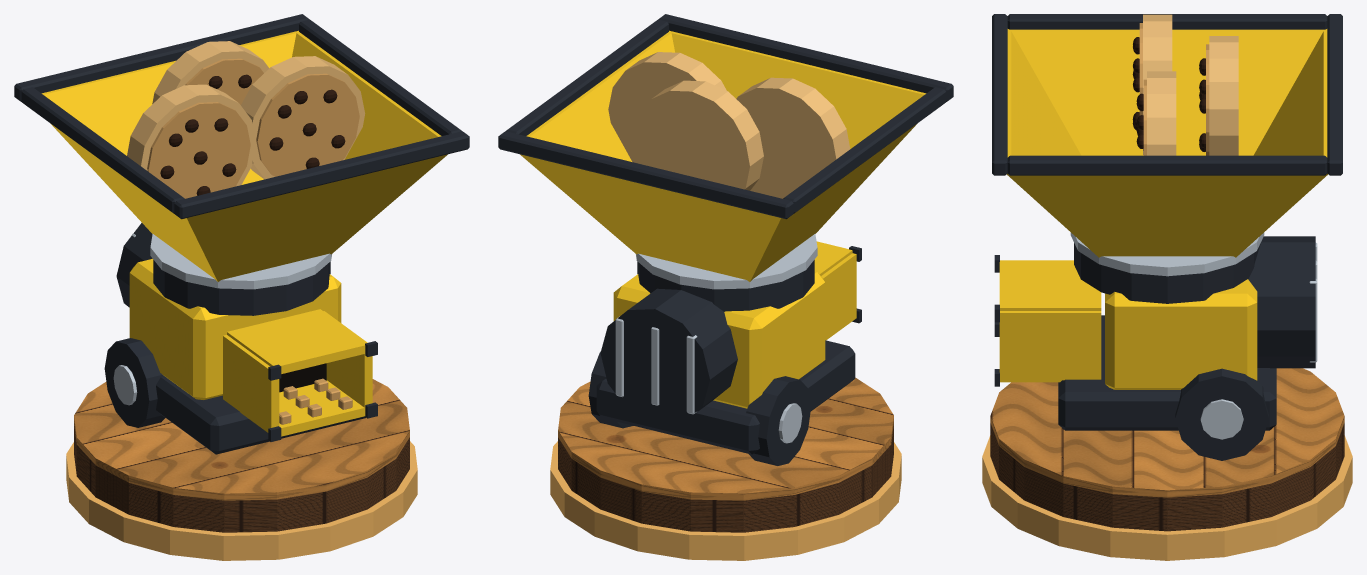
The model's file is CookieCrumbler.glb.
3 renders of one model, left to right at view 1: azimuth 30°, elevation 25°; view 2: azimuth 150°, elevation 25°; view 3: azimuth 270°, elevation 25°, orthographic. The views are drawn at different scales.
Parts seen in each view (by area): view 1: CookieCrumbler, pedestal, rim; view 2: CookieCrumbler, pedestal, rim; view 3: CookieCrumbler, pedestal, rim.
Boxes of the visible parts, bbox=[...] form: CookieCrumbler: bbox=[14, 14, 469, 454]; pedestal: bbox=[74, 379, 409, 532]; rim: bbox=[66, 441, 417, 560]; CookieCrumbler: bbox=[498, 14, 953, 465]; pedestal: bbox=[558, 377, 893, 532]; rim: bbox=[550, 441, 901, 560]; CookieCrumbler: bbox=[992, 14, 1342, 460]; pedestal: bbox=[990, 368, 1344, 531]; rim: bbox=[982, 435, 1352, 560].
Size of the model in its own units: 0.9 by 1.18 by 0.9.
Materials: 10 (2 with a texture image).
